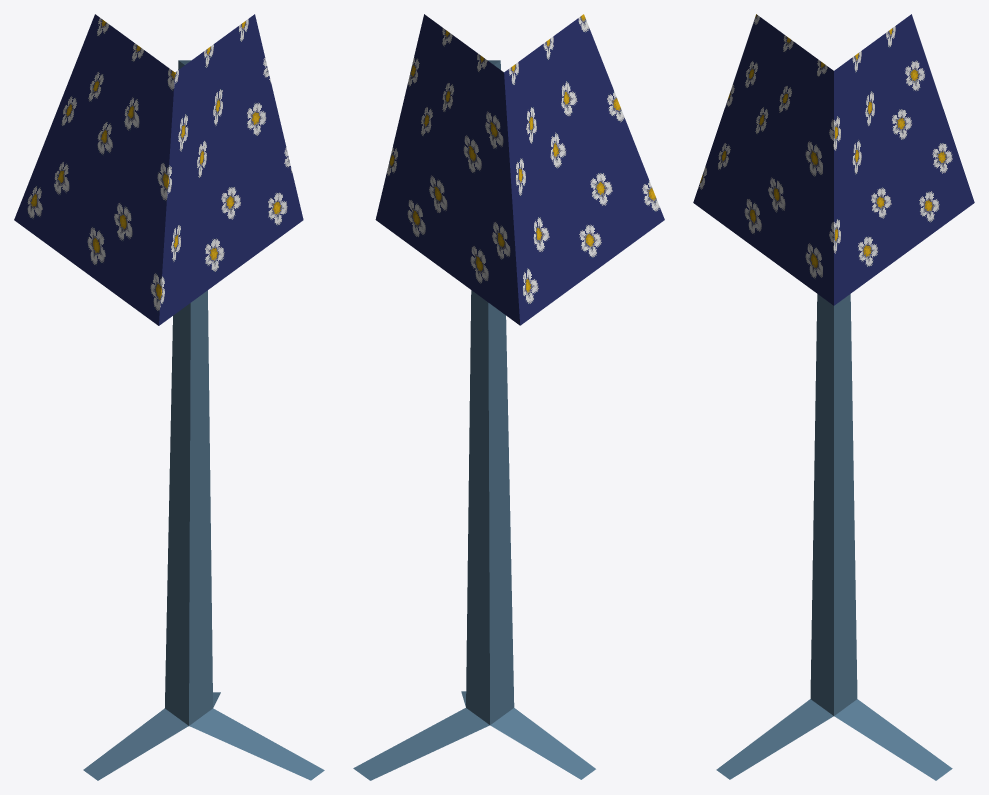
Rendered from Stehlampe [Violett]_1703.glb.
3 views of the same model, side by side, from view 1: azimuth 30°, elevation 25°; view 2: azimuth 150°, elevation 25°; view 3: azimuth 270°, elevation 25° (orthographic). The views are drawn at different scales.
Parts seen in each view (by area): view 1: pCylinderShape39, pCylinderShape37, pPlaneShape31, pPlaneShape29; view 2: pCylinderShape39, pCylinderShape37, pPlaneShape30, pPlaneShape29; view 3: pCylinderShape39, pCylinderShape37, pPlaneShape30, pPlaneShape31.
Part boxes in pixels (bbox=[...]): pCylinderShape39: bbox=[14, 14, 303, 325]; pCylinderShape37: bbox=[165, 60, 212, 725]; pPlaneShape31: bbox=[189, 708, 324, 780]; pPlaneShape29: bbox=[83, 708, 188, 780]; pCylinderShape39: bbox=[375, 14, 664, 325]; pCylinderShape37: bbox=[466, 60, 514, 725]; pPlaneShape30: bbox=[353, 708, 489, 780]; pPlaneShape29: bbox=[490, 708, 595, 779]; pCylinderShape39: bbox=[693, 14, 974, 305]; pCylinderShape37: bbox=[810, 294, 857, 715]; pPlaneShape30: bbox=[834, 699, 952, 780]; pPlaneShape31: bbox=[716, 699, 833, 779].
Size of the model in its own units: 0.091 by 0.2888 by 0.1051.
5 materials, 1 textured.
